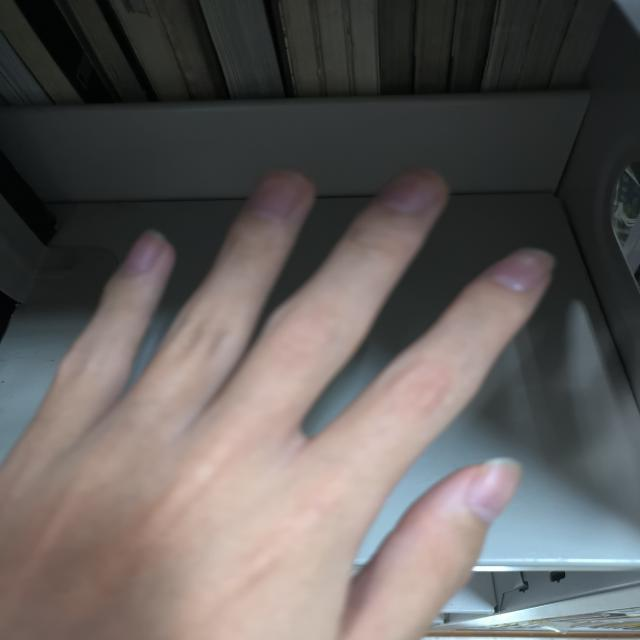Nail: (469, 458, 523, 522), (250, 169, 307, 219), (384, 167, 444, 213), (492, 249, 554, 290), (125, 229, 164, 273)
